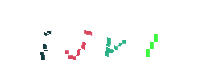1: (88, 0, 168, 80)
I: (4, 0, 84, 80)
J: (38, 0, 118, 80)
V: (60, 0, 140, 80)
